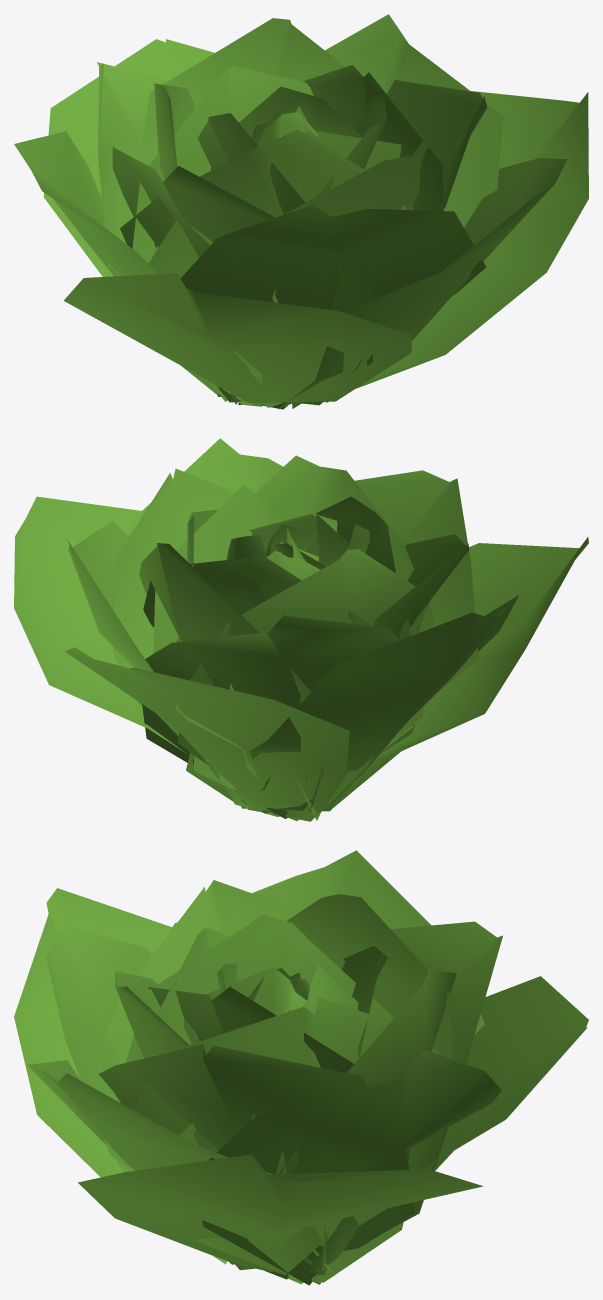
File: plant_lettuce.glb
3 renders of one model, top to bottom at view 1: azimuth 30°, elevation 25°; view 2: azimuth 150°, elevation 25°; view 3: azimuth 270°, elevation 25°, orthographic. The views are drawn at different scales.
Visible parts, largest first — view 1: Green; view 2: Green; view 3: Green.
Boxes of the visible parts, left/top/right/bottom form: Green: left=14, top=14, right=588, bottom=409; Green: left=14, top=438, right=588, bottom=821; Green: left=14, top=850, right=588, bottom=1285.
Bounding box in the file's own units: 0.2503 × 0.144 × 0.2281.
